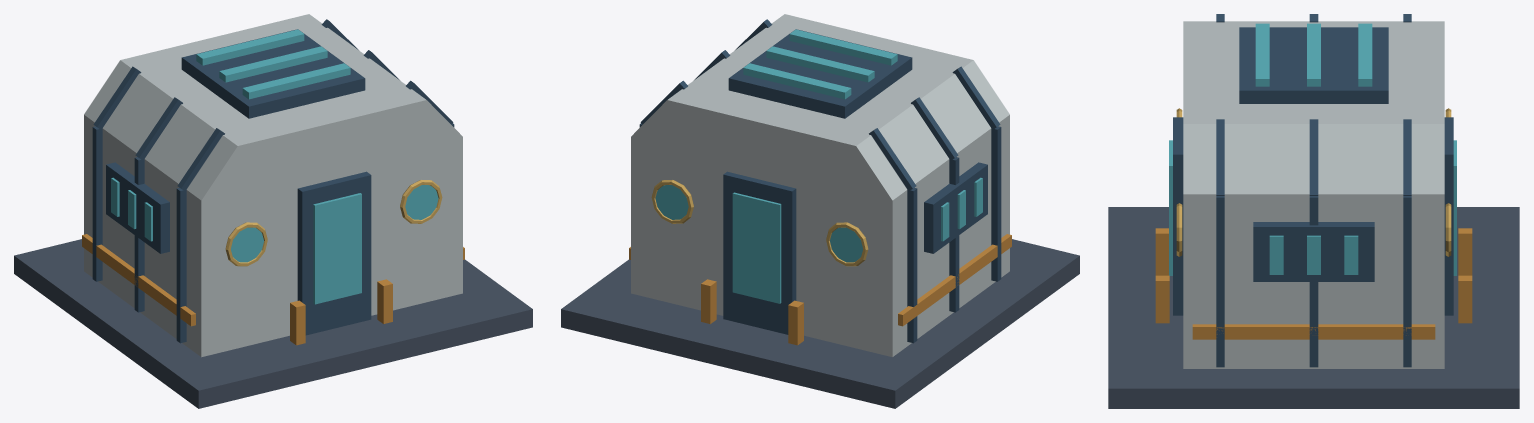
Rendered from SpaceStation_Habitat_Showcase.glb.
The picture shows the model from 3 angles, left to right: view 1: azimuth 30°, elevation 25°; view 2: azimuth 150°, elevation 25°; view 3: azimuth 270°, elevation 25°; orthographic projection. The views are drawn at different scales.
Visible parts, largest first — view 1: SpaceStation_Habitat_Showcase; view 2: SpaceStation_Habitat_Showcase; view 3: SpaceStation_Habitat_Showcase.
Boxes of the visible parts, x1,y1,x2,y2 form: SpaceStation_Habitat_Showcase: [14, 14, 532, 408]; SpaceStation_Habitat_Showcase: [561, 14, 1079, 408]; SpaceStation_Habitat_Showcase: [1108, 14, 1519, 408].
Bounding box in the file's own units: 4.6 × 3.15 × 4.4.
